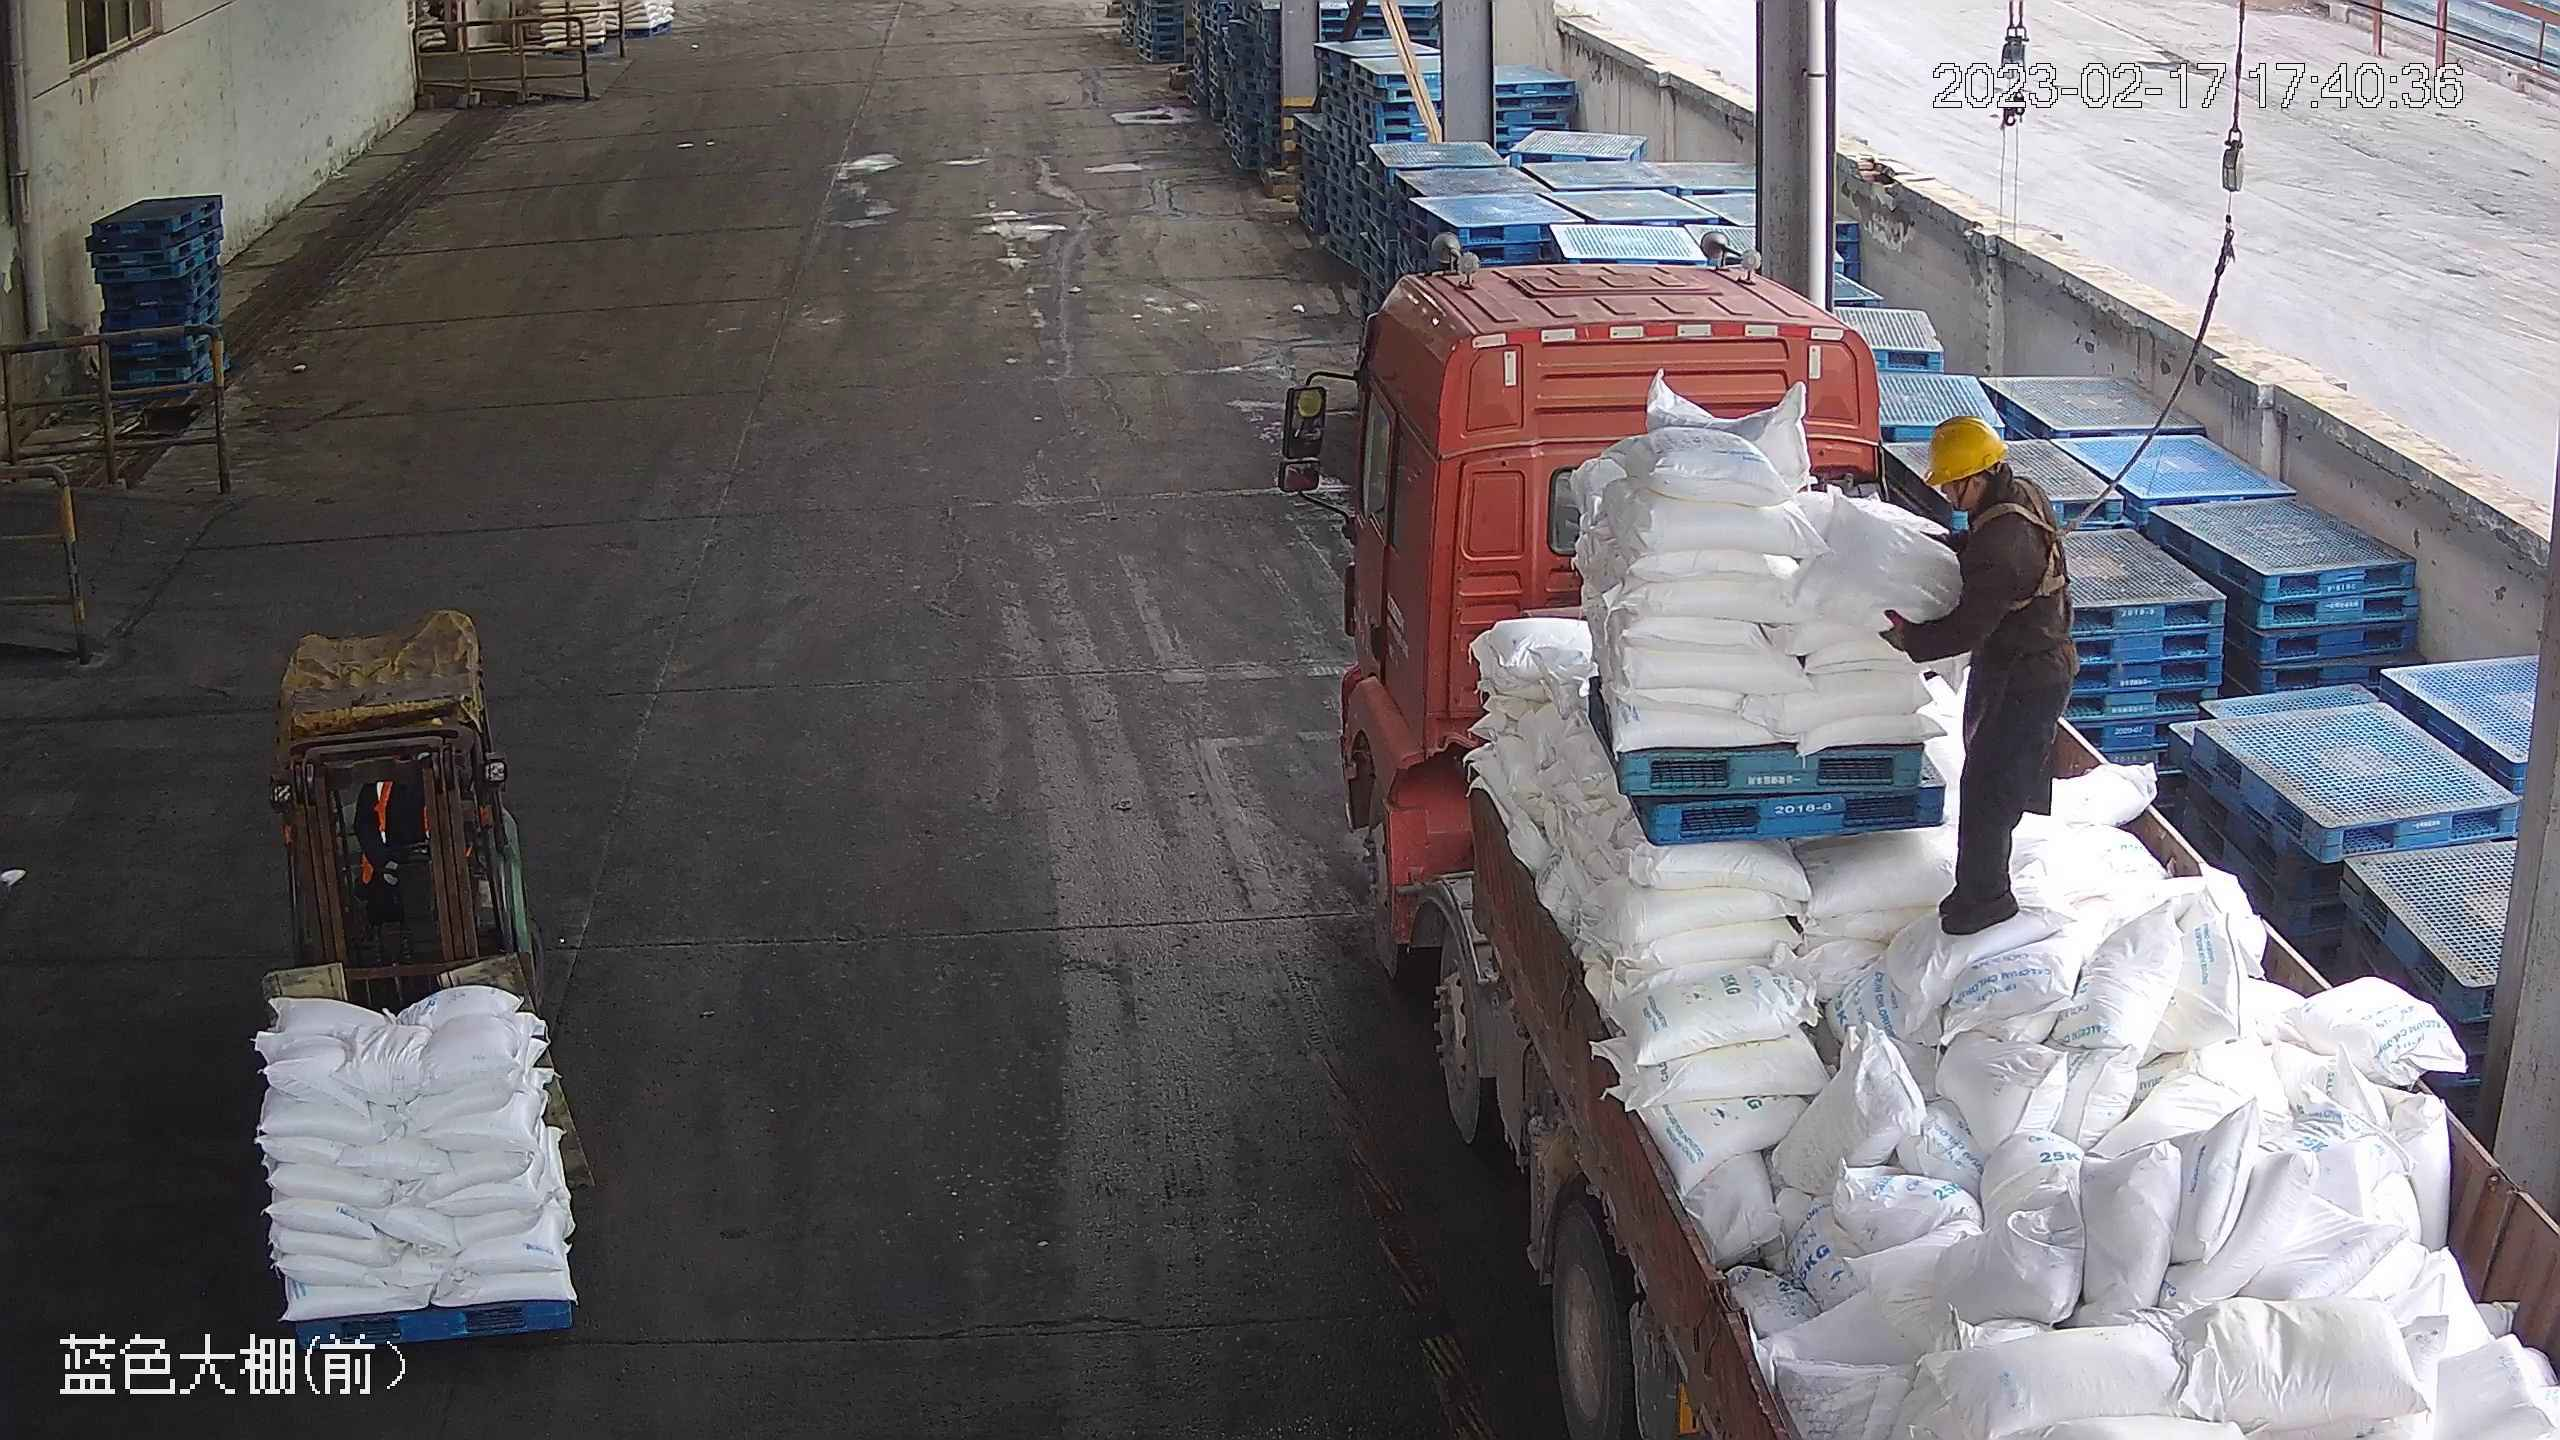belt: (1972, 484, 2077, 614)
head: (1922, 413, 2061, 576)
helmet: (1921, 412, 2008, 487)
people: (1874, 412, 2070, 942)
truck: (1281, 254, 2555, 1433)
